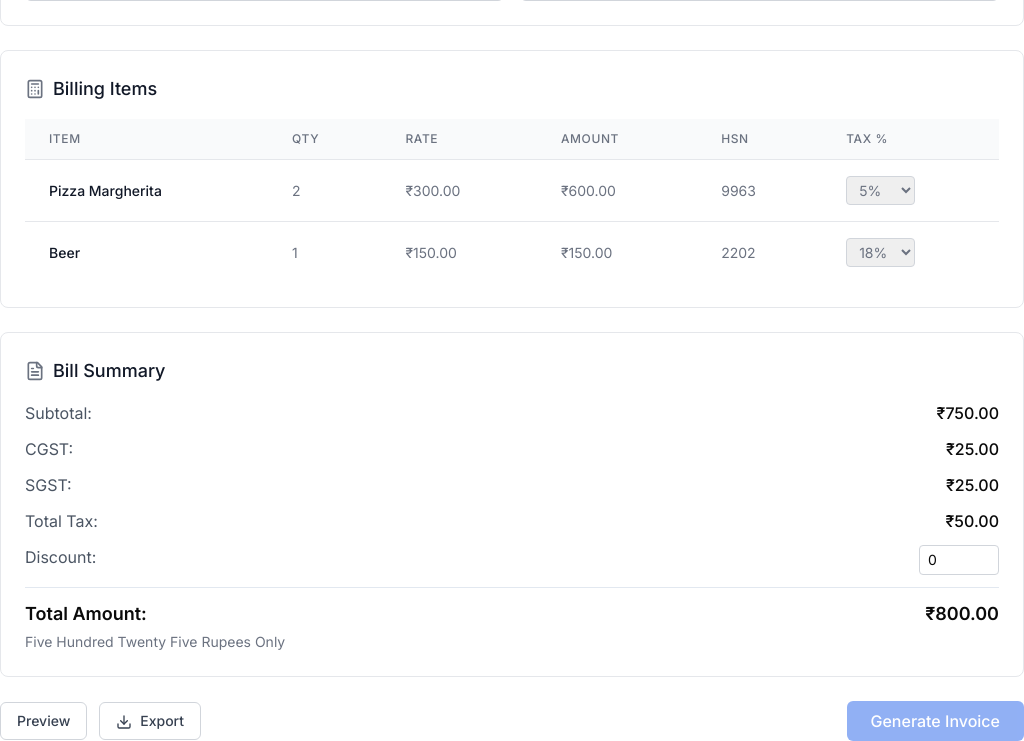
Test: GSTBillingForm › should show invoice preview modal when preview button is clicked
The width and height of the screenshot is (1024, 741).
(page scrolled)
Click the button "Preview": (44, 721) top-left (0, 702), bottom-right (87, 740)
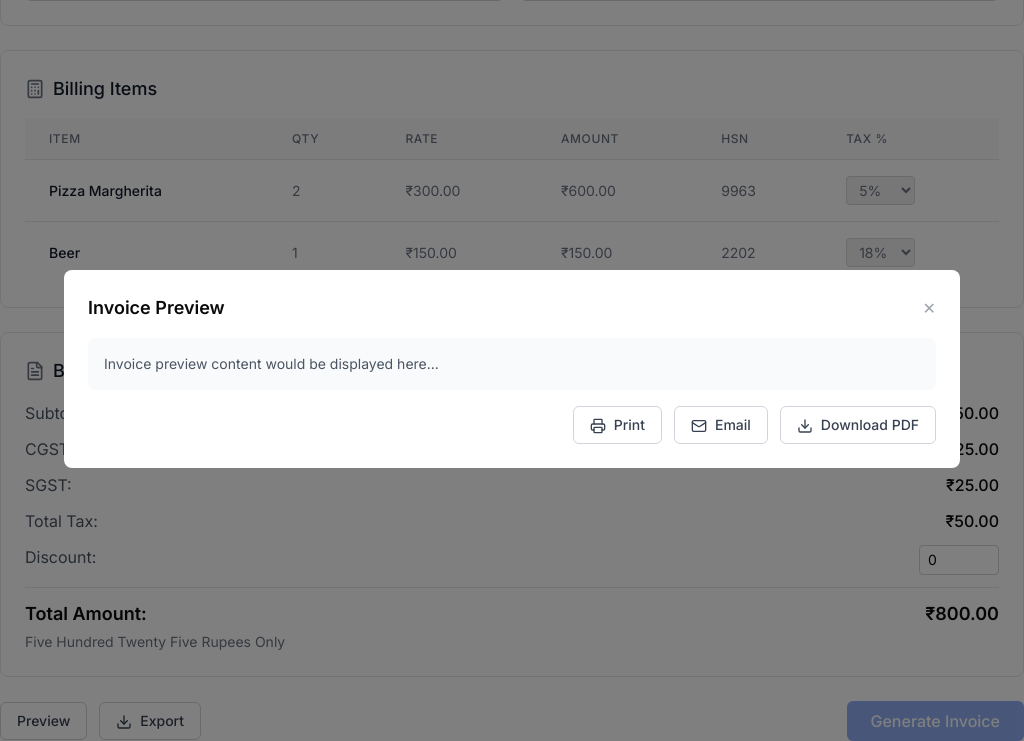
Result: the heading "Invoice Preview" is shown at top-left (88, 294), bottom-right (225, 322)
Result: the button "Print" is shown at top-left (573, 406), bottom-right (662, 444)
Result: the button "Email" is shown at top-left (674, 406), bottom-right (768, 444)
